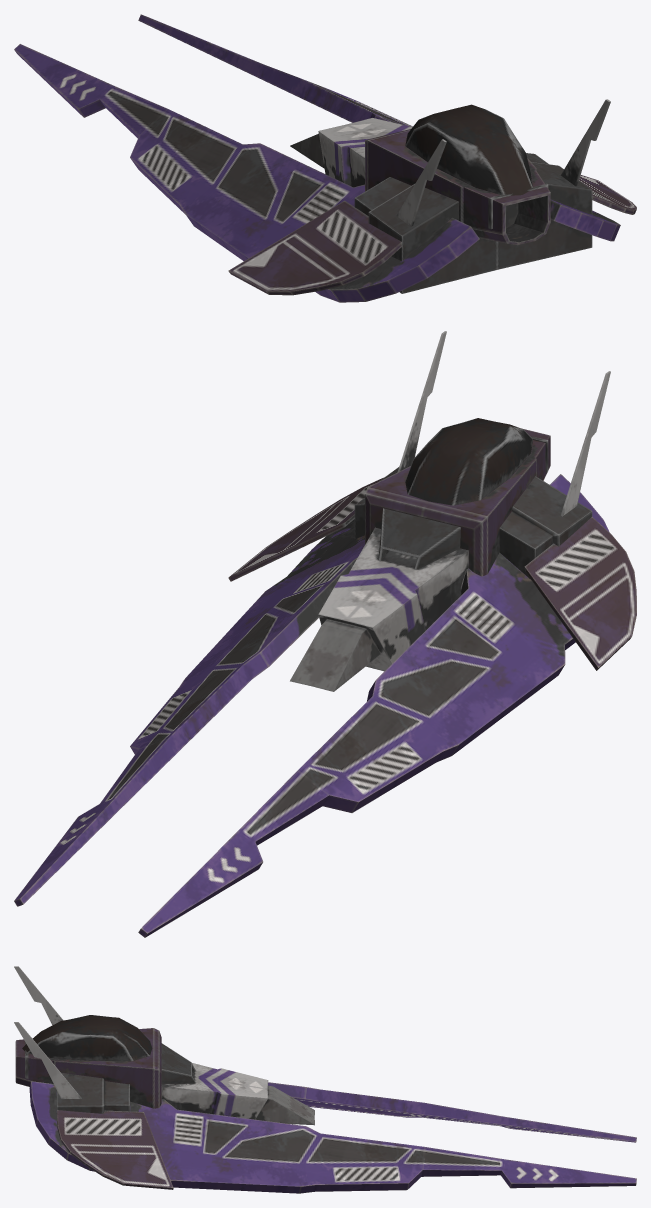
File: nebula.glb
3 renders of one model, top to bottom at view 1: azimuth 30°, elevation 25°; view 2: azimuth 150°, elevation 25°; view 3: azimuth 270°, elevation 25°, orthographic. The views are drawn at different scales.
Parts seen in each view (by area): view 1: Dispatcher; view 2: Dispatcher; view 3: Dispatcher.
Part boxes in pixels (x1,y1,x2,y2): Dispatcher: (14, 14, 636, 302); Dispatcher: (14, 331, 636, 937); Dispatcher: (14, 966, 636, 1193).
Size of the model in its own units: 2.15 by 1.35 by 4.5.
1 material, 1 textured.
